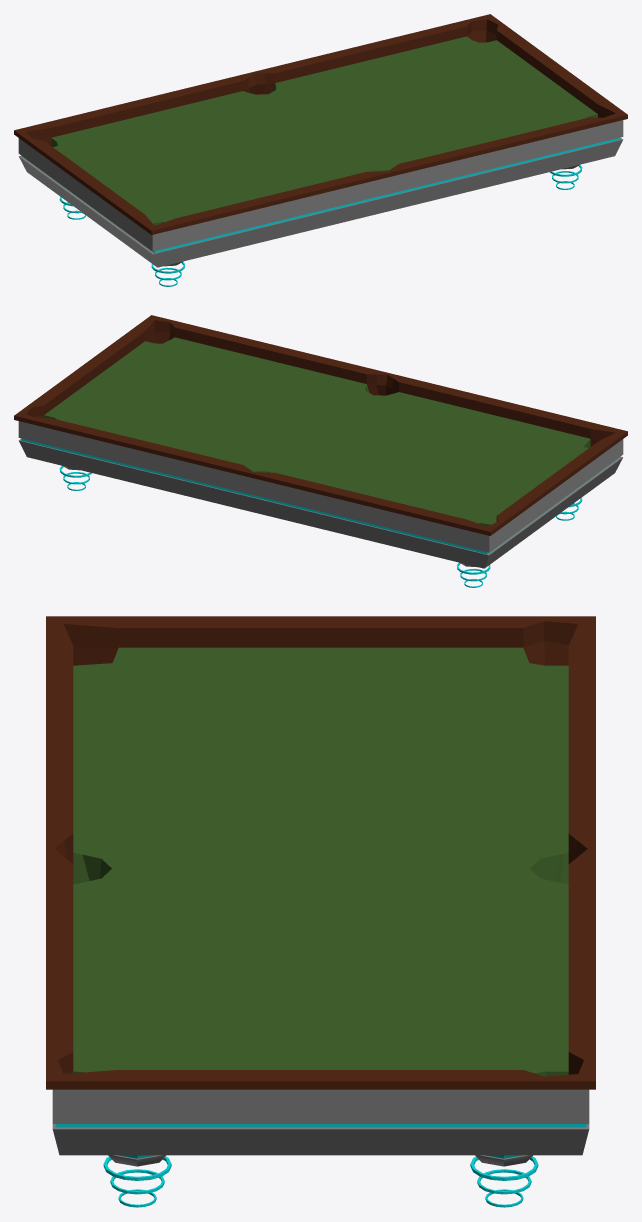
The model's file is Billar_Table.fbx.
The picture shows the model from 3 angles, top to bottom: view 1: azimuth 30°, elevation 25°; view 2: azimuth 150°, elevation 25°; view 3: azimuth 270°, elevation 25°; orthographic projection. The views are drawn at different scales.
Visible parts, largest first — view 1: Billar; view 2: Billar; view 3: Billar, Platform.001.
Part boxes in pixels (x1=…): Billar: x1=14, y1=14, x2=627, y2=267; Billar: x1=14, y1=315, x2=627, y2=568; Billar: x1=46, y1=616, x2=595, y2=1155; Platform.001: x1=108, y1=1155, x2=532, y2=1166.
Size of the model in its own units: 1200 by 189 by 600.
